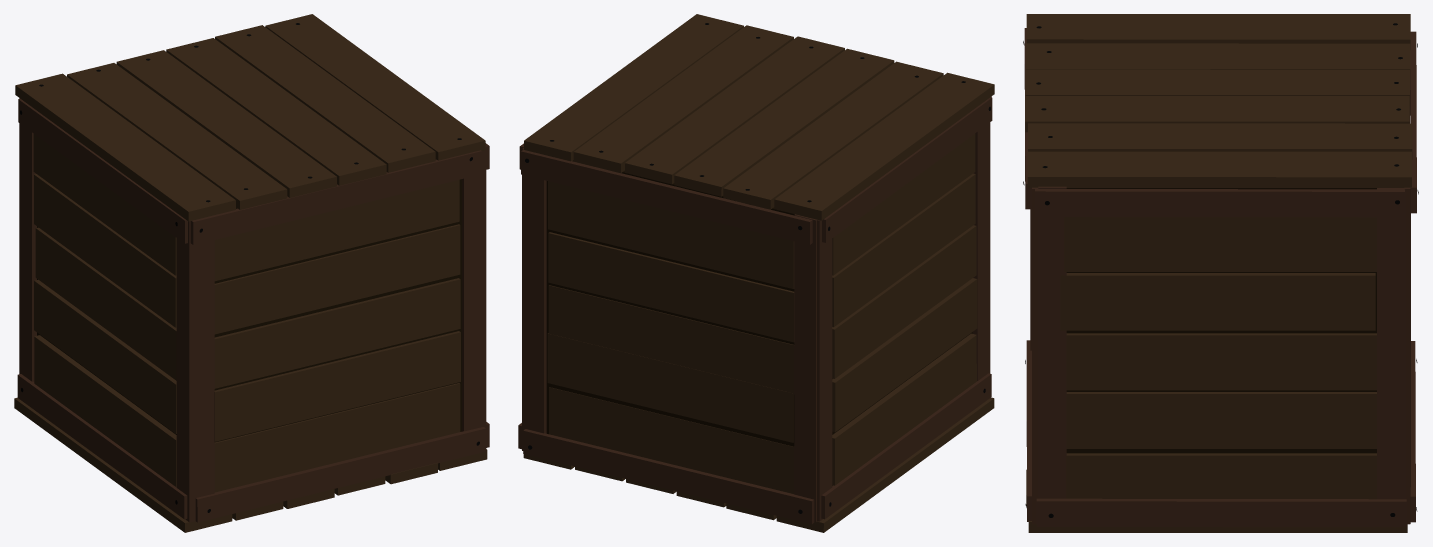
Rendered from crate.fbx.
3 renders of one model, left to right at view 1: azimuth 30°, elevation 25°; view 2: azimuth 150°, elevation 25°; view 3: azimuth 270°, elevation 25°, orthographic. The views are drawn at different scales.
Visible parts, largest first — view 1: Cube.018, Cube.017, Cube.016, Cube.019, Cube.015, Cube.042, Cube.040, Cube.038, Cube.039, Cube.041, Cube.037, Cube.035 (+14 smaller); view 2: Cube.023, Cube.025, Cube.024, Cube.020, Cube.026, Cube.042, Cube.040, Cube.038, Cube.041, Cube.039, Cube.037, Cube.035 (+14 smaller); view 3: Cube.028, Cube.029, Cube.030, Cube.027, Cube.031, Cube.037, Cube.042, Cube.038, Cube.039, Cube.009, Cube.010, Cube.040 (+11 smaller).
Part boxes in pixels (x1,y1,x2,y2): Cube.018: (214,331,460,441); Cube.017: (214,278,460,388); Cube.016: (214,224,460,334); Cube.019: (214,383,460,492); Cube.015: (214,179,459,281); Cube.042: (15,73,235,221); Cube.040: (116,50,336,197); Cube.038: (215,25,435,172); Cube.039: (166,38,386,185); Cube.041: (67,63,287,209); Cube.037: (265,14,485,160); Cube.035: (34,279,176,433); Cube.023: (548,232,794,342); Cube.025: (547,333,793,442); Cube.024: (548,285,794,394); Cube.020: (548,181,794,288); Cube.026: (549,387,794,493); Cube.042: (774,72,994,220); Cube.040: (674,48,894,196); Cube.038: (573,25,793,173); Cube.041: (723,61,943,209); Cube.039: (625,36,844,184); Cube.037: (524,14,743,161); Cube.035: (832,278,977,432); Cube.028: (1060,273,1375,330); Cube.029: (1066,333,1376,390); Cube.030: (1066,392,1376,448); Cube.027: (1064,217,1376,271); Cube.031: (1066,453,1376,499); Cube.037: (1027,151,1411,187); Cube.042: (1026,14,1410,49); Cube.038: (1028,123,1412,159); Cube.039: (1025,96,1409,132); Cube.009: (1035,189,1404,217); Cube.010: (1036,498,1406,527); Cube.040: (1025,69,1409,105).
Size of the model in its own units: 399 by 395 by 396.
